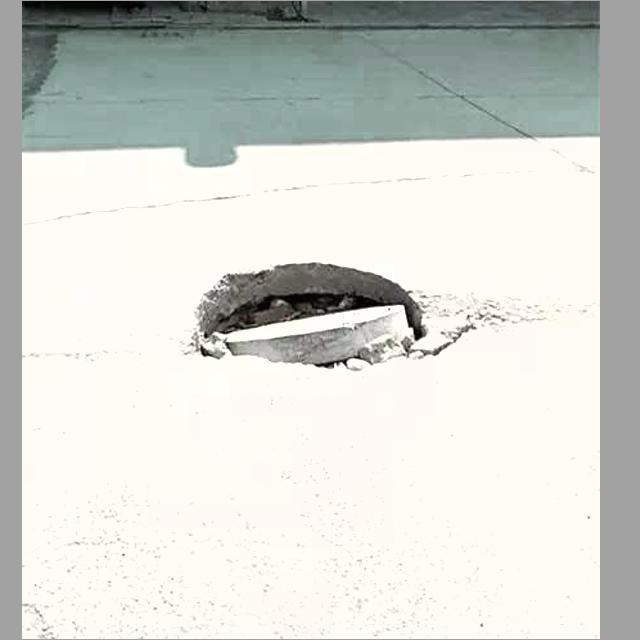circle: (168, 246, 508, 403)
